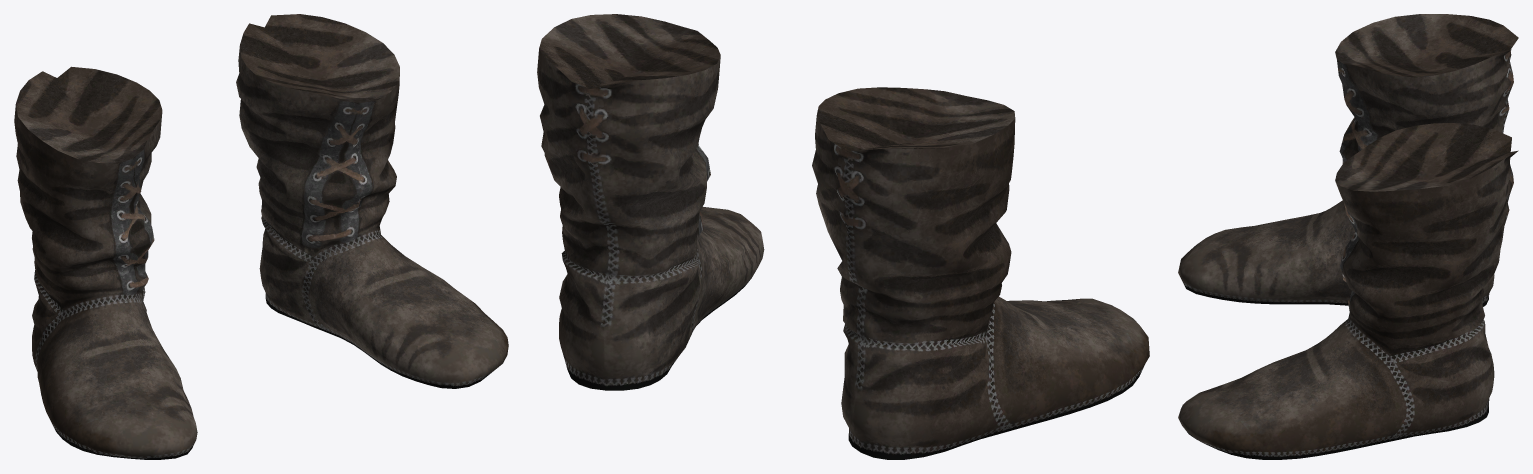
The model's file is sk_dwarf_erebor_boots_light_a.fbx.
The picture shows the model from 3 angles, left to right: view 1: azimuth 30°, elevation 25°; view 2: azimuth 150°, elevation 25°; view 3: azimuth 270°, elevation 25°; orthographic projection. The views are drawn at different scales.
Visible parts, largest first — view 1: sk_dwarf_erebor_boots_light_a; view 2: sk_dwarf_erebor_boots_light_a; view 3: sk_dwarf_erebor_boots_light_a.
Part boxes in pixels (x1=…): sk_dwarf_erebor_boots_light_a: x1=14, y1=14, x2=508, y2=459; sk_dwarf_erebor_boots_light_a: x1=537, y1=14, x2=1149, y2=459; sk_dwarf_erebor_boots_light_a: x1=1178, y1=14, x2=1518, y2=459.
Size of the model in its own units: 0.5227 by 0.3539 by 0.3022.
1 material, 1 textured.
